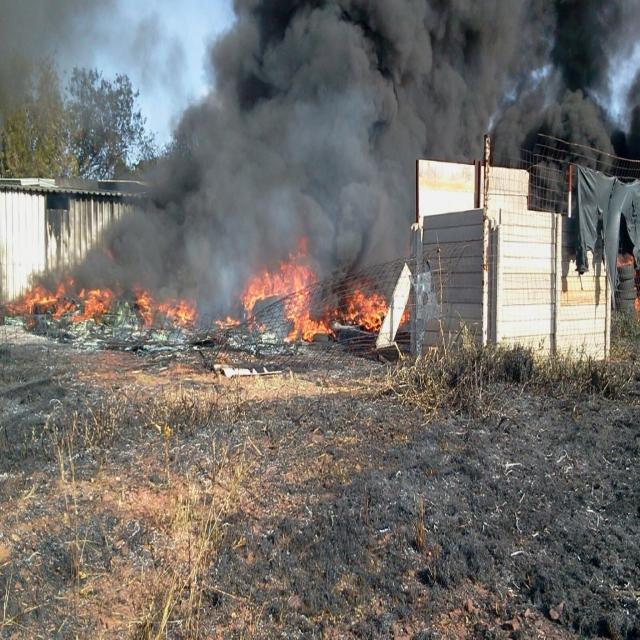Fire: (249, 266, 312, 348), (79, 286, 110, 322), (14, 286, 53, 310)
Smoke: (202, 107, 388, 231)
